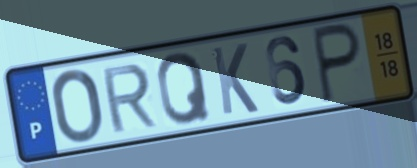6: (264, 34, 310, 108)
K: (208, 41, 261, 119)
O: (49, 66, 106, 146)
P: (310, 20, 364, 107)
Q: (155, 50, 214, 129)
R: (98, 61, 159, 136)
